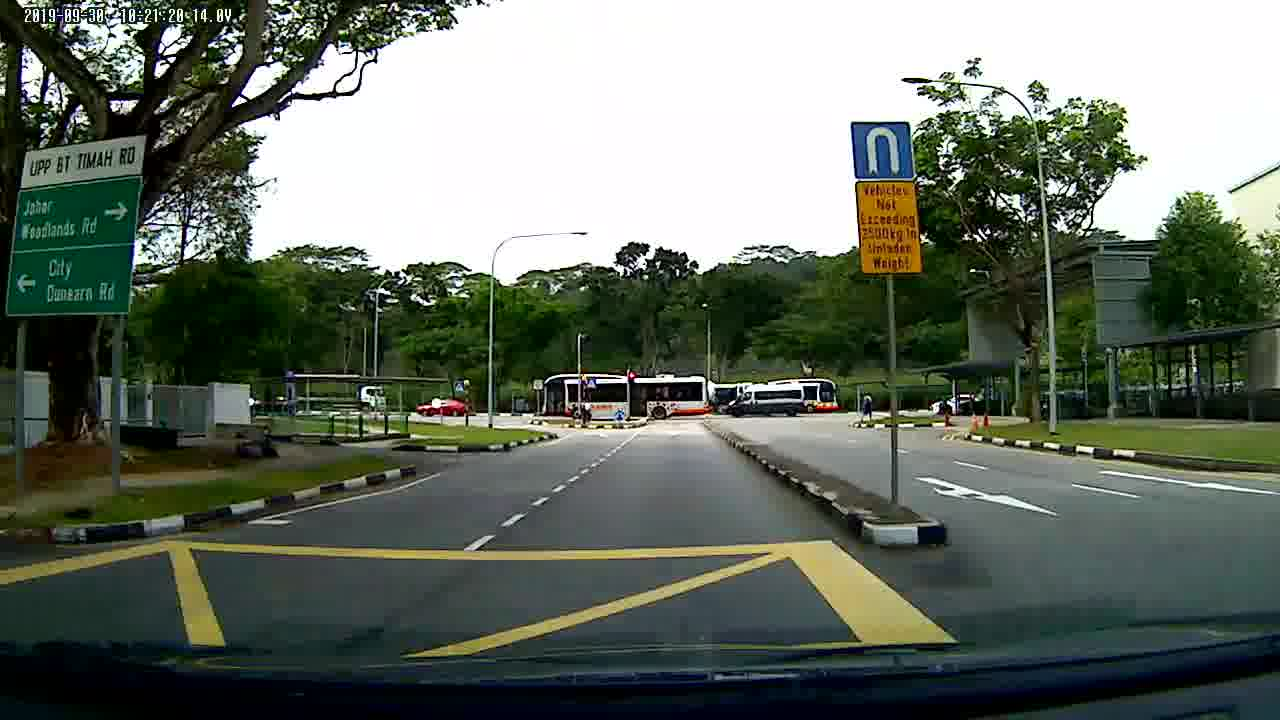bus: (537, 373, 709, 422), (800, 375, 840, 414)
